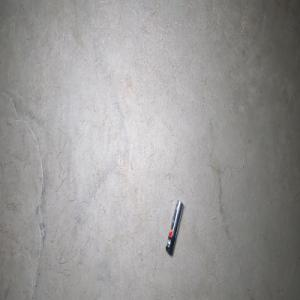Battery: (165, 199, 183, 256)
